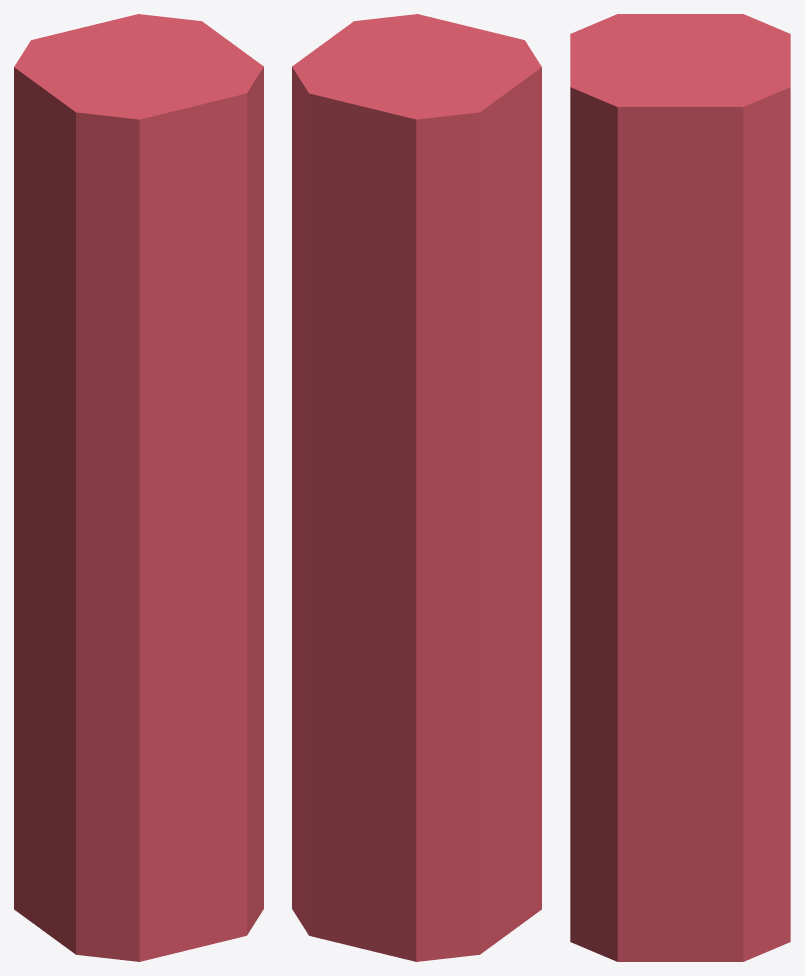
File: decoration-pillar.fbx
3 views of the same model, side by side, from view 1: azimuth 30°, elevation 25°; view 2: azimuth 150°, elevation 25°; view 3: azimuth 270°, elevation 25° (orthographic).
Parts seen in each view (by area): view 1: decoration-pillar; view 2: decoration-pillar; view 3: decoration-pillar.
Boxes of the visible parts, x1,y1,x2,y2 form: decoration-pillar: [14, 14, 263, 961]; decoration-pillar: [292, 14, 541, 961]; decoration-pillar: [570, 14, 790, 961].
Size of the model in its own units: 0.7004 by 3 by 0.7004.
